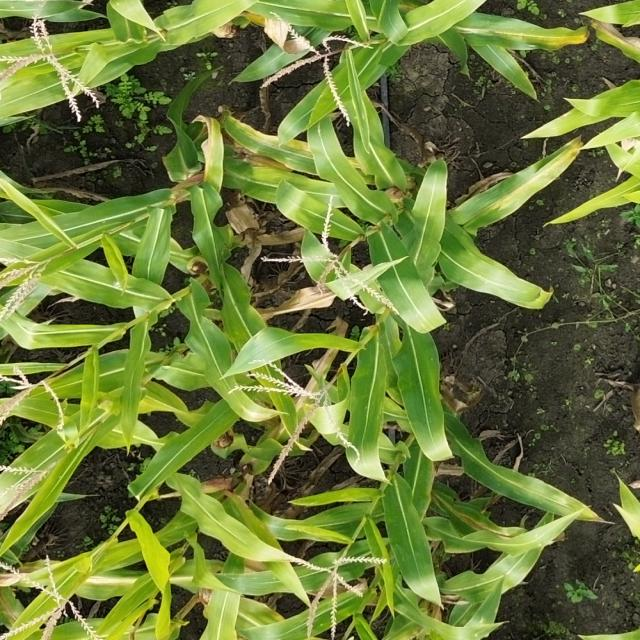northern-leaf-blight: (446, 141, 587, 235), (183, 114, 362, 186)
southern-leaf-blight: (424, 562, 536, 640)
